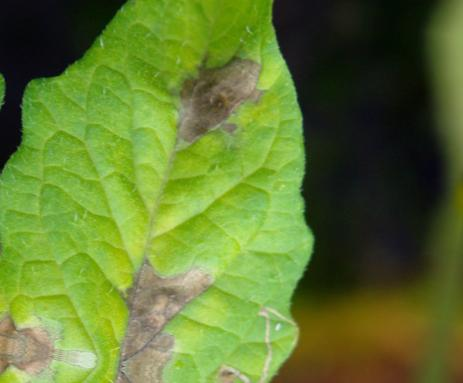Tomato leaf late blight: (0, 0, 367, 383)
